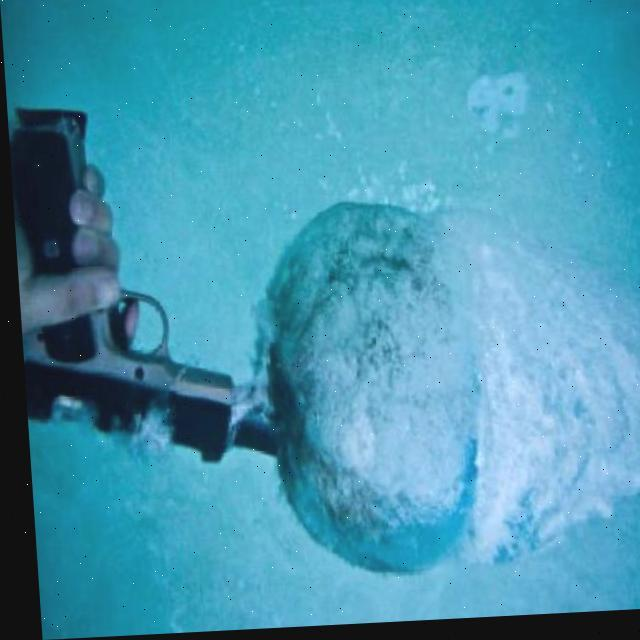gun: (6, 98, 234, 483)
